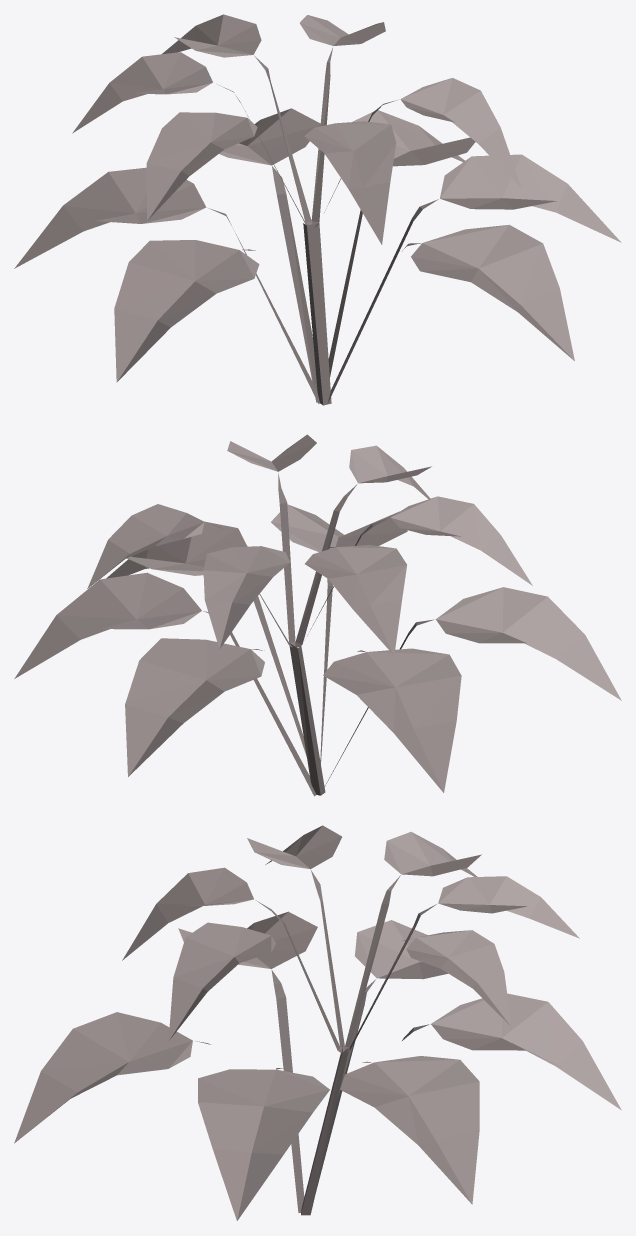
3 views of the same model, one above another, from view 1: azimuth 30°, elevation 25°; view 2: azimuth 150°, elevation 25°; view 3: azimuth 270°, elevation 25° (orthographic). The views are drawn at different scales.
Size of the model in its own units: 250 by 142 by 248.
1 material, 1 textured.
